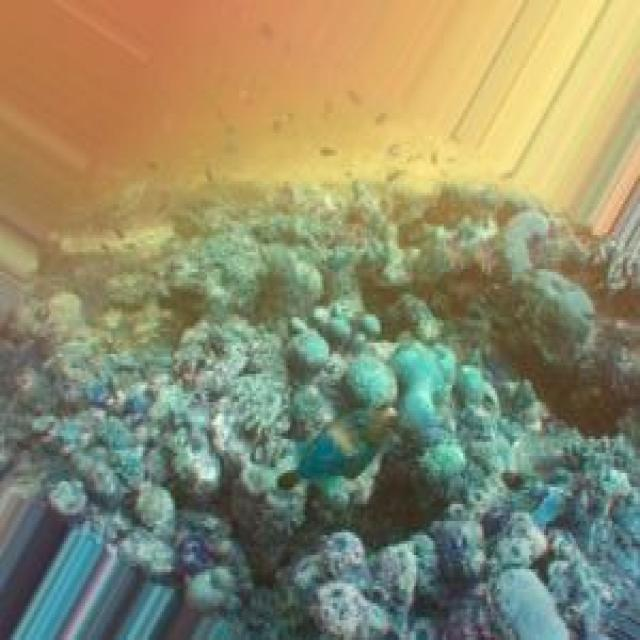Healthy: (1, 157, 640, 640), (48, 361, 253, 618), (120, 366, 287, 562), (513, 437, 640, 640), (182, 219, 406, 329), (387, 344, 470, 539), (280, 533, 419, 640), (477, 270, 596, 389), (285, 313, 366, 429), (481, 502, 560, 590)
